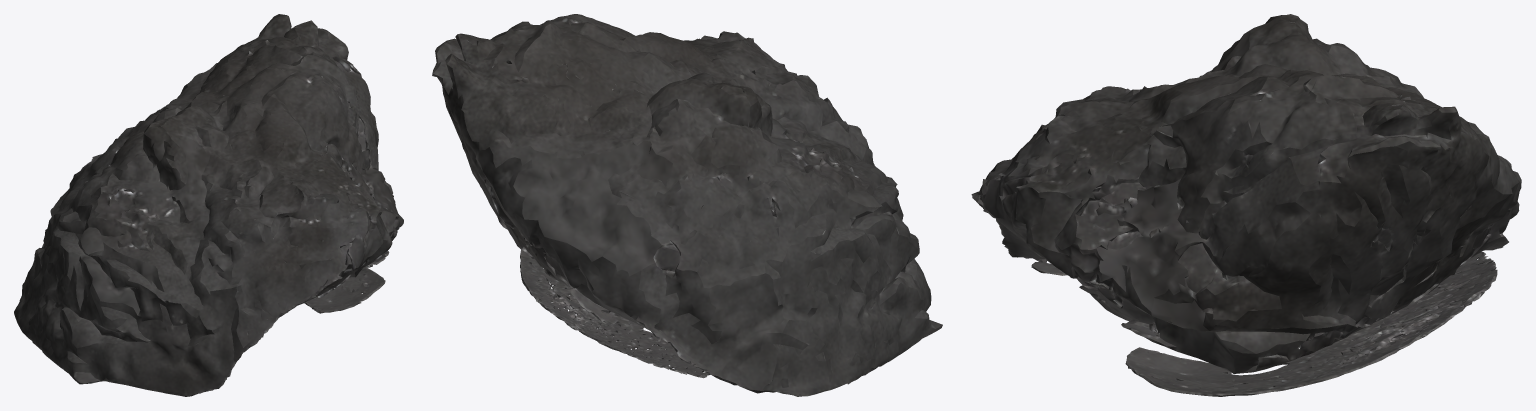
The picture shows the model from 3 angles, left to right: view 1: azimuth 30°, elevation 25°; view 2: azimuth 150°, elevation 25°; view 3: azimuth 270°, elevation 25°; orthographic projection. The views are drawn at different scales.
Parts seen in each view (by area): view 1: world; view 2: world; view 3: world.
Boxes of the visible parts, x1,y1,x2,y2 form: world: [14, 14, 403, 396]; world: [432, 14, 942, 396]; world: [971, 14, 1521, 396].
Bounding box in the file's own units: 0.45 × 0.2915 × 0.4414.
Materials: 1 (1 with a texture image).
